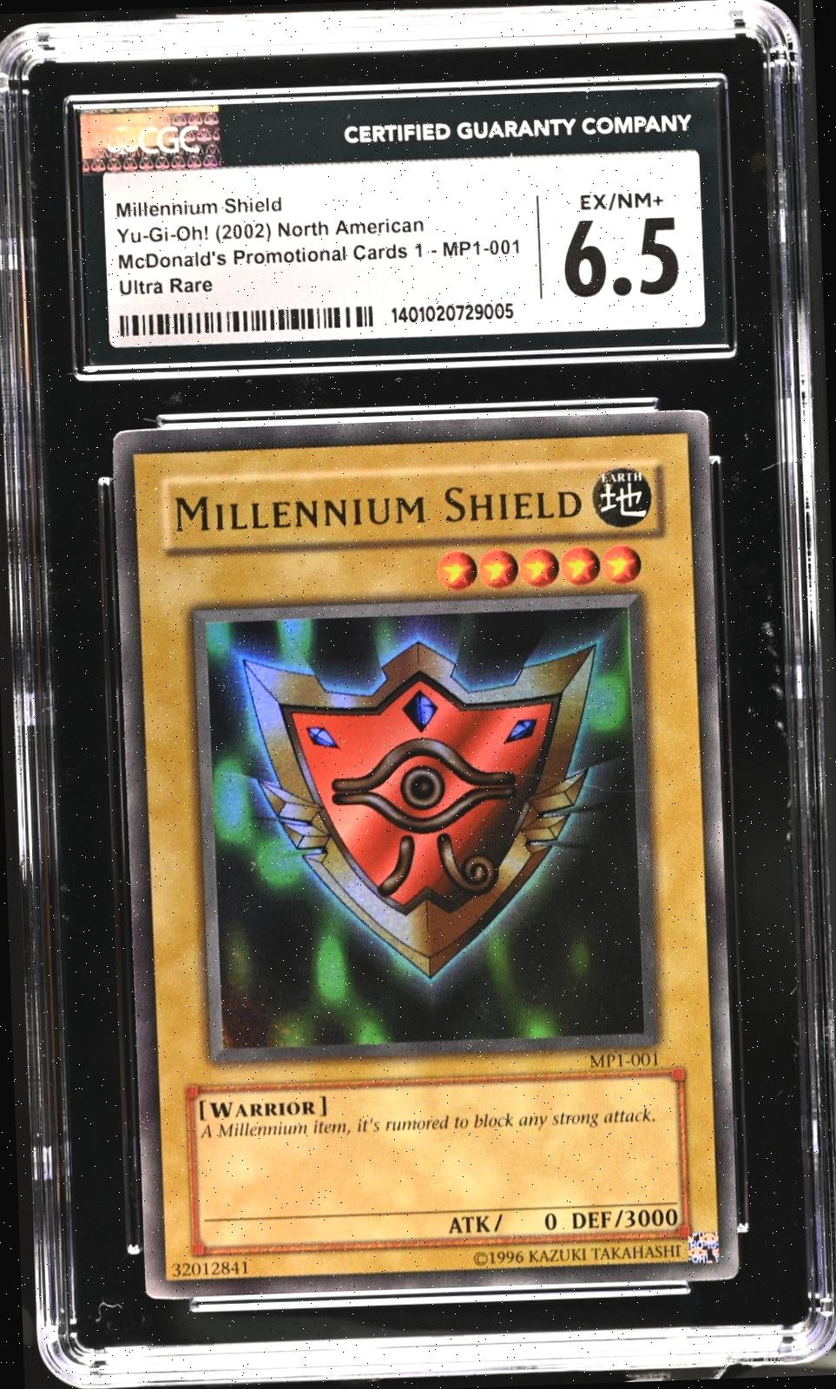card-2UtV: (111, 409, 739, 1300)
